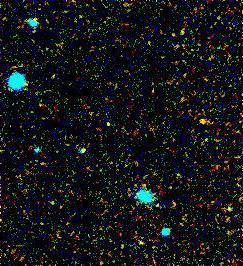star: (194, 108, 224, 138)
